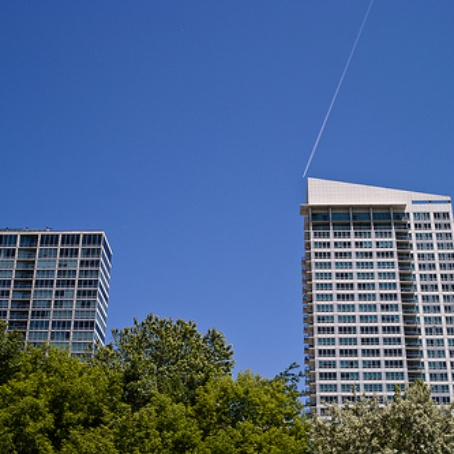building: (299, 181, 454, 440), (1, 228, 119, 356)
sky: (1, 1, 454, 218), (127, 218, 305, 346)
vegetation: (1, 336, 454, 454)
